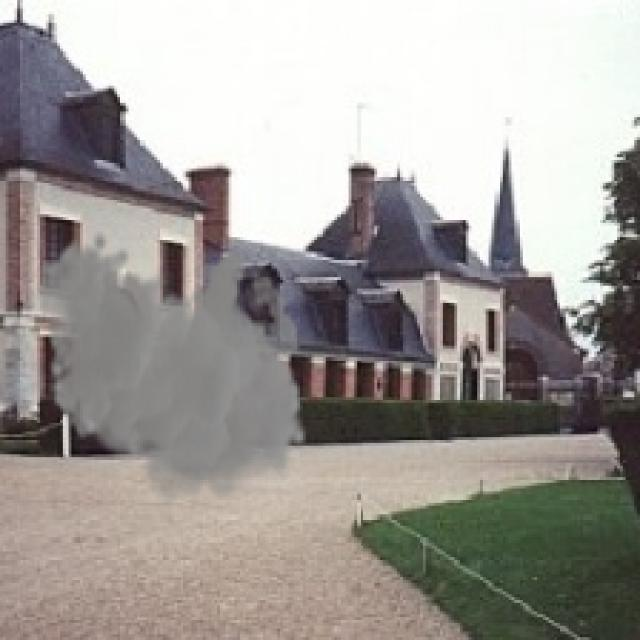smoke: (37, 232, 309, 514)
